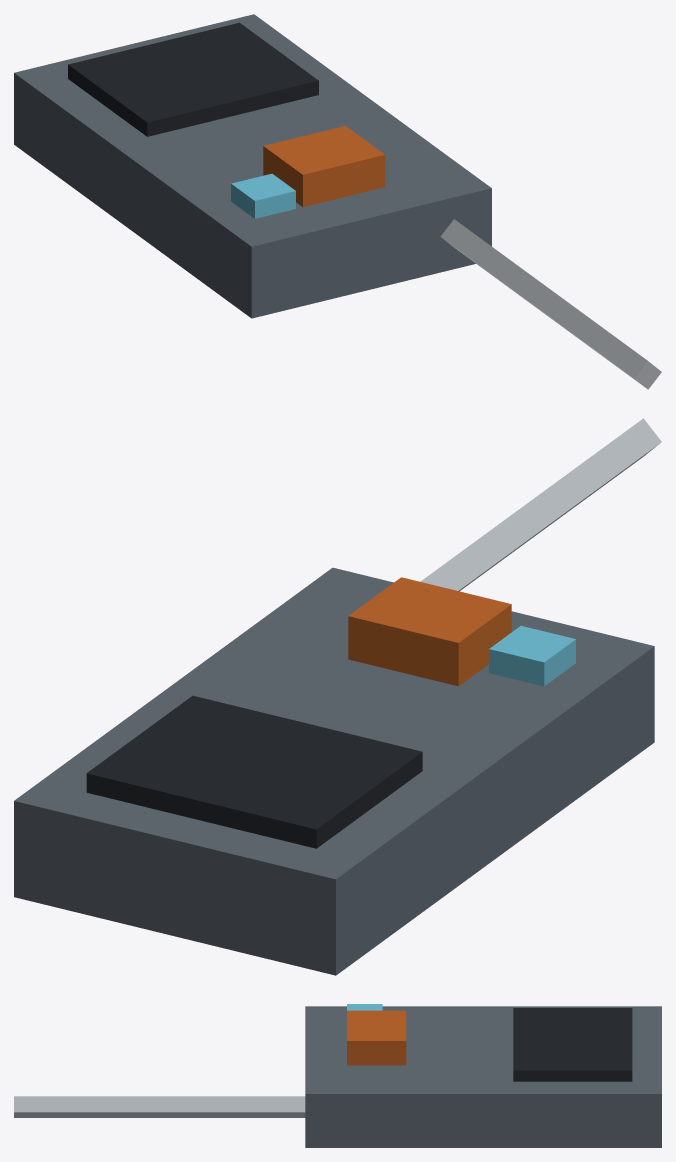
File: pocket-scrambler.lod.glb
3 renders of one model, top to bottom at view 1: azimuth 30°, elevation 25°; view 2: azimuth 150°, elevation 25°; view 3: azimuth 270°, elevation 25°, orthographic. The views are drawn at different scales.
Visible parts, largest first — view 1: m; view 2: m; view 3: m.
Part boxes in pixels (bbox=[...]): m: bbox=[14, 14, 661, 389]; m: bbox=[14, 418, 661, 975]; m: bbox=[14, 1004, 661, 1147].
Bounding box in the file's own units: 0.0289 × 0.012 × 0.09.
